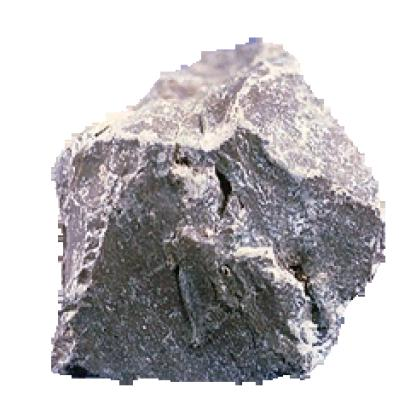Sedimentary_Limestone: (40, 35, 400, 393)
